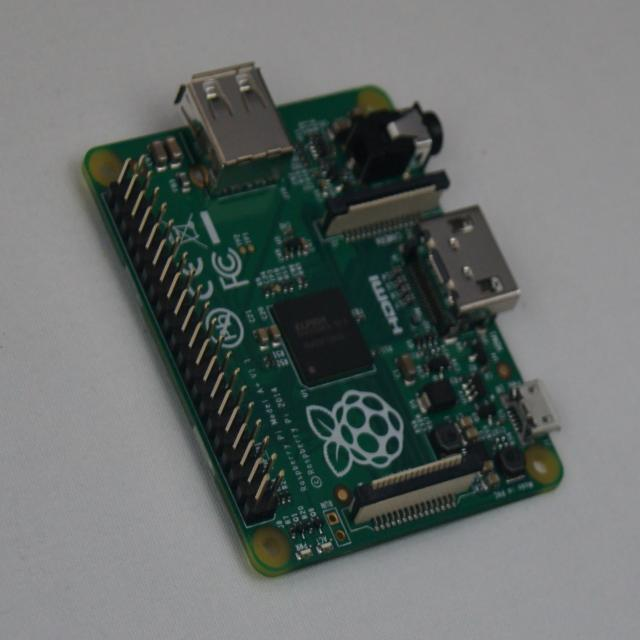Raspberry-Pi-1-A-: (84, 64, 563, 575)
